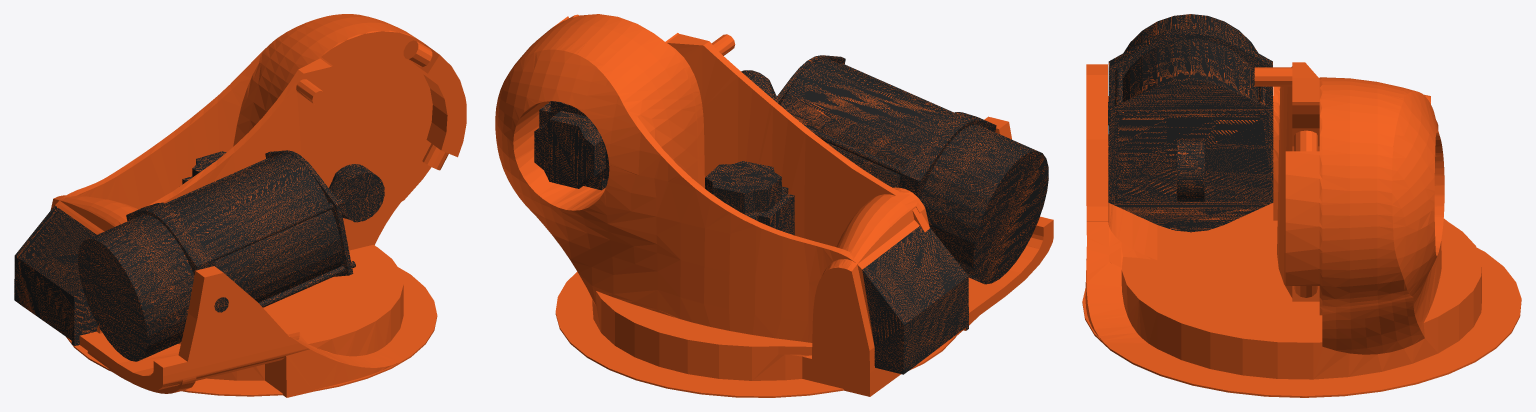
3 renders of one model, left to right at view 1: azimuth 30°, elevation 25°; view 2: azimuth 150°, elevation 25°; view 3: azimuth 270°, elevation 25°, orthographic. The views are drawn at different scales.
Visible parts, largest first — view 1: skpA994 (×12); view 2: skpA994 (×12); view 3: skpA994 (×7).
Boxes of the visible parts, bbox=[...] form: skpA994 (×12): bbox=[14, 14, 466, 397]; skpA994 (×12): bbox=[495, 14, 1053, 397]; skpA994 (×7): bbox=[1082, 14, 1521, 397].
Size of the model in its own units: 44.9 by 36.19 by 26.14.
